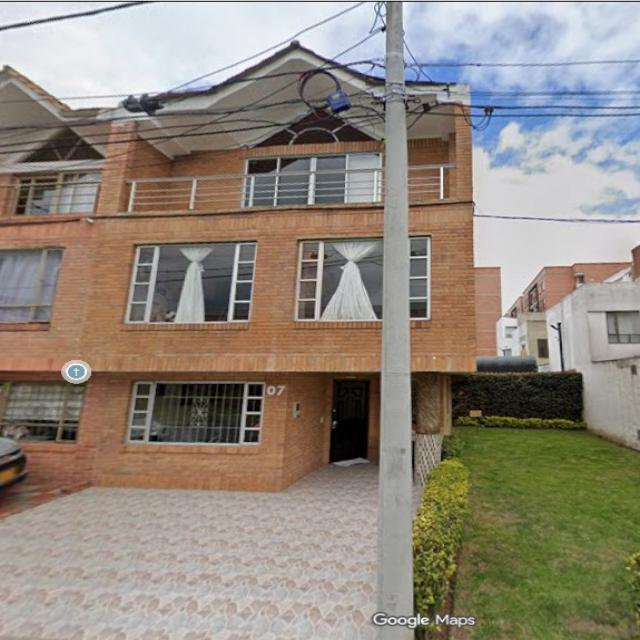Casa: (0, 41, 475, 489), (548, 280, 639, 450), (498, 263, 629, 369)
Poste: (375, 1, 413, 639)
